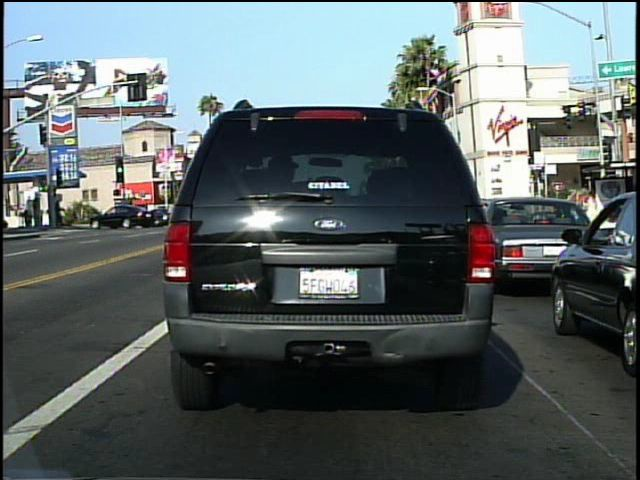person: (582, 188, 604, 244)
